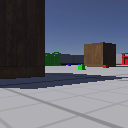blue_cube: (68, 64, 71, 66)
green_basket: (45, 52, 61, 65)
green_cube: (78, 64, 85, 70)
obstacle: (1, 1, 45, 78), (84, 42, 116, 67)
red_basket: (121, 53, 128, 66)
red_cube: (103, 64, 109, 68)
